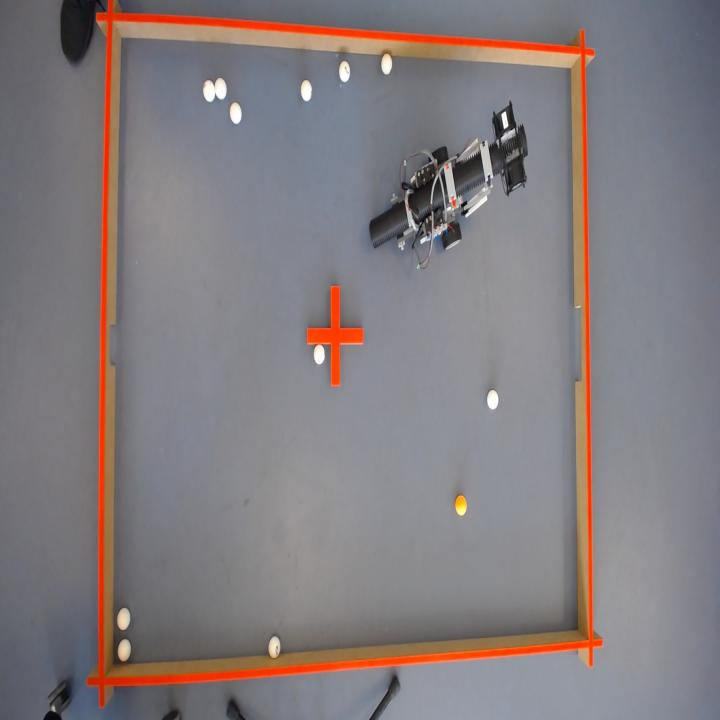orange: (456, 495, 467, 516)
robot: (370, 100, 528, 256)
white: (116, 607, 130, 631), (268, 635, 281, 659), (117, 639, 130, 662), (202, 78, 214, 100), (214, 76, 226, 98), (300, 78, 312, 100), (339, 59, 351, 81), (381, 51, 393, 73), (229, 101, 241, 122), (488, 389, 500, 409), (314, 343, 325, 364)
